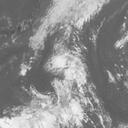cyclone: (20, 30, 95, 105)
